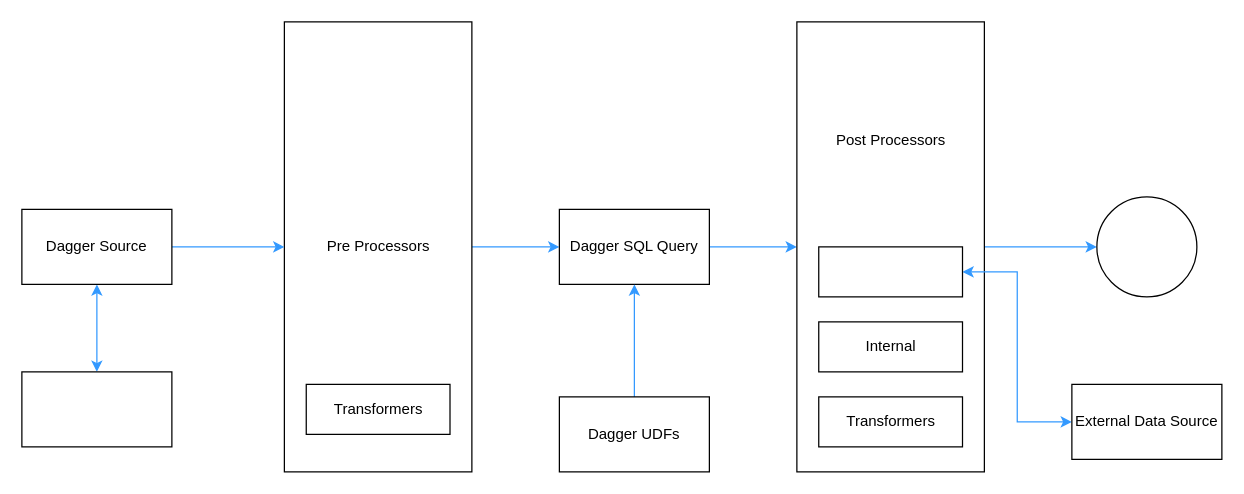
This 1244x494 diagram has some shape labels left out. Each missing label, with the centre of its shape:
Dagger Deserializer: the point at 96,409
Dagger Sink: the point at 1146,246
External: the point at 890,271
